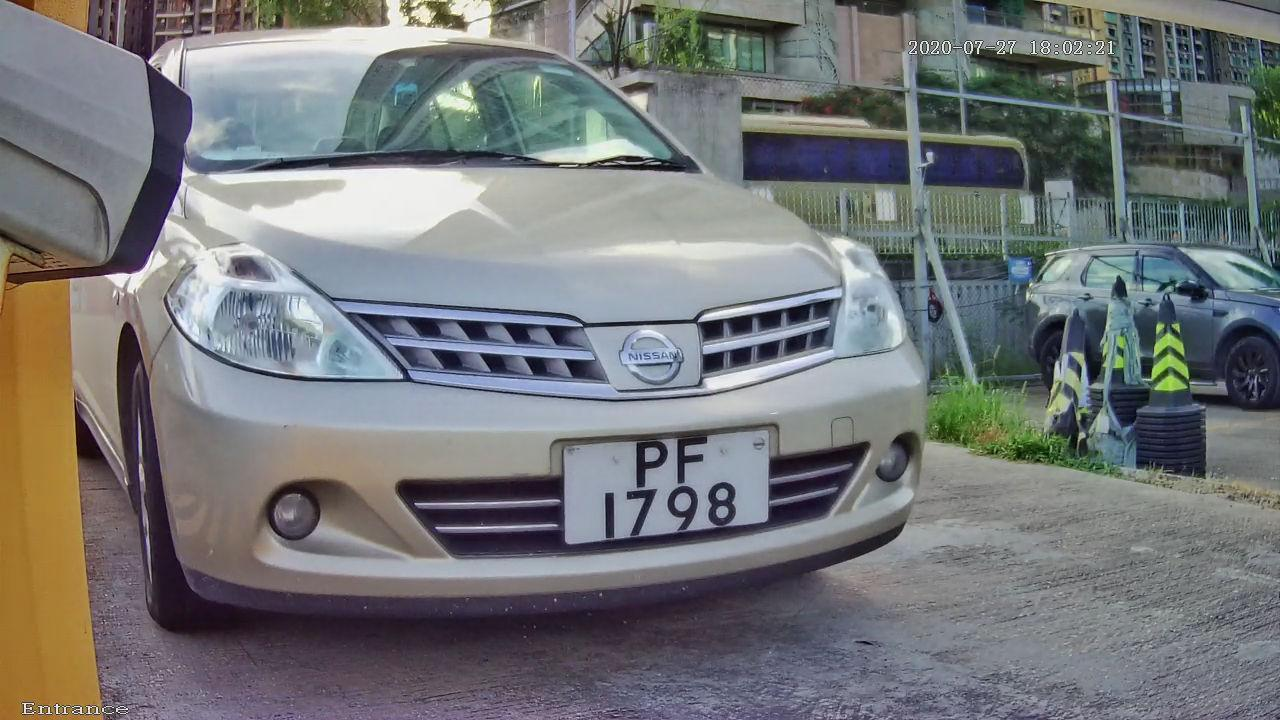privatecar: (69, 36, 995, 647)
